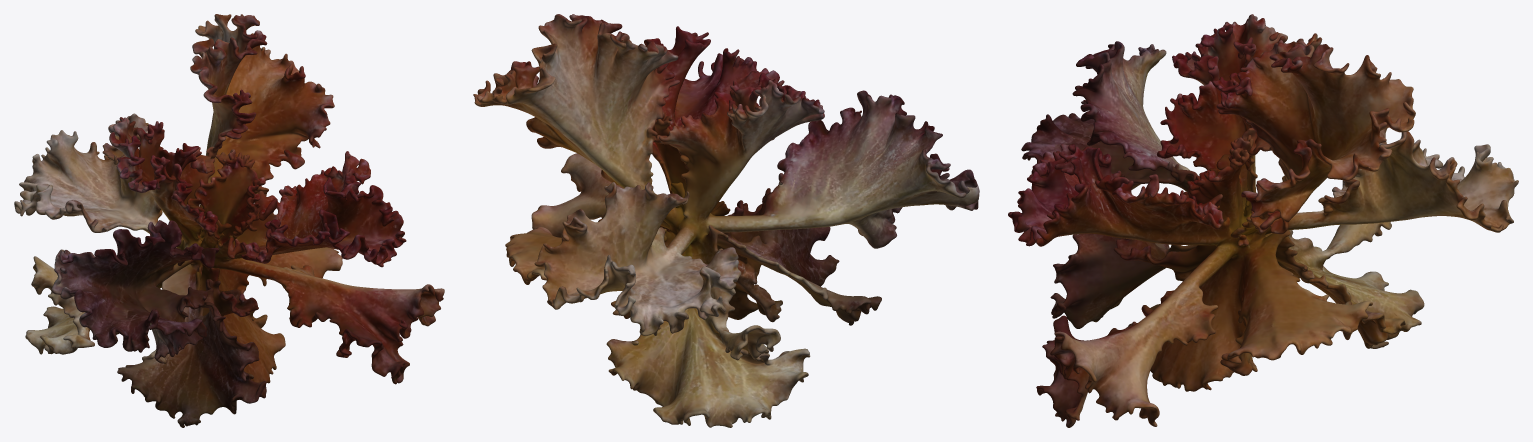
The model's file is orbital_maturity.glb.
3 renders of one model, left to right at view 1: azimuth 30°, elevation 25°; view 2: azimuth 150°, elevation 25°; view 3: azimuth 270°, elevation 25°, orthographic. The views are drawn at different scales.
Parts seen in each view (by area): view 1: tripo_node_bc67abb4-35d2-4c93-879e-bdfde46b3fee; view 2: tripo_node_bc67abb4-35d2-4c93-879e-bdfde46b3fee; view 3: tripo_node_bc67abb4-35d2-4c93-879e-bdfde46b3fee.
Boxes of the visible parts, box(x1,y1,x2,y2) form: tripo_node_bc67abb4-35d2-4c93-879e-bdfde46b3fee: box(14, 14, 444, 427); tripo_node_bc67abb4-35d2-4c93-879e-bdfde46b3fee: box(473, 14, 979, 427); tripo_node_bc67abb4-35d2-4c93-879e-bdfde46b3fee: box(1008, 14, 1518, 427).
Bounding box in the file's own units: 1 × 0.785 × 0.9953.
1 material, 1 textured.
